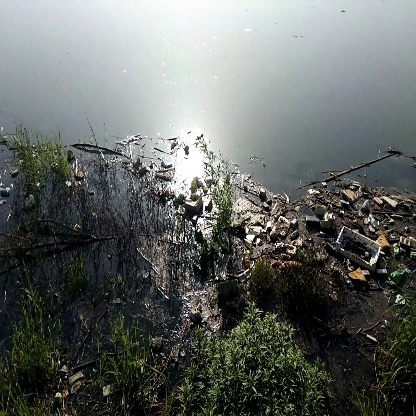branch: (302, 151, 408, 187)
plastic-garbage: (331, 221, 385, 272)
